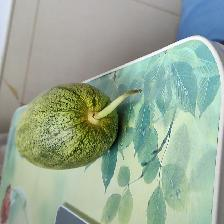gua: (17, 94, 131, 161)
